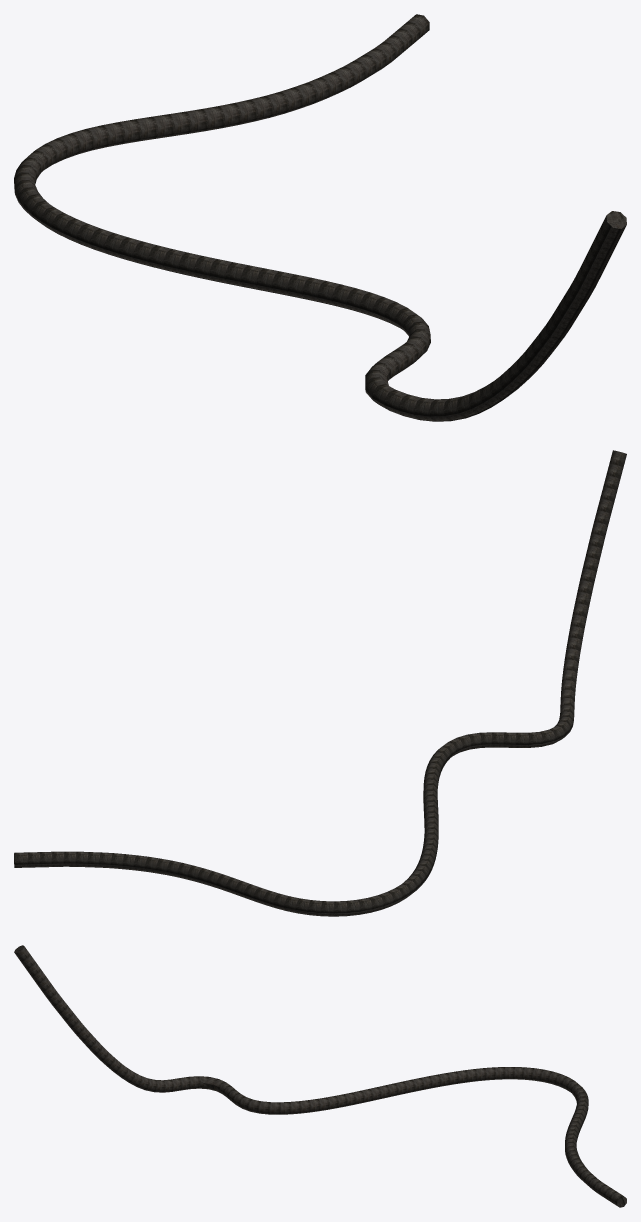
Rendered from Wire02.fbx.
3 views of the same model, one above another, from view 1: azimuth 30°, elevation 25°; view 2: azimuth 150°, elevation 25°; view 3: azimuth 270°, elevation 25° (orthographic). The views are drawn at different scales.
Parts seen in each view (by area): view 1: Wire02; view 2: Wire02; view 3: Wire02.
Boxes of the visible parts, <box> form: Wire02: <box>14,14,626,421</box>; Wire02: <box>14,450,626,916</box>; Wire02: <box>14,945,626,1207</box>.
Bounding box in the file's own units: 2.76 × 1.62 × 5.39.
